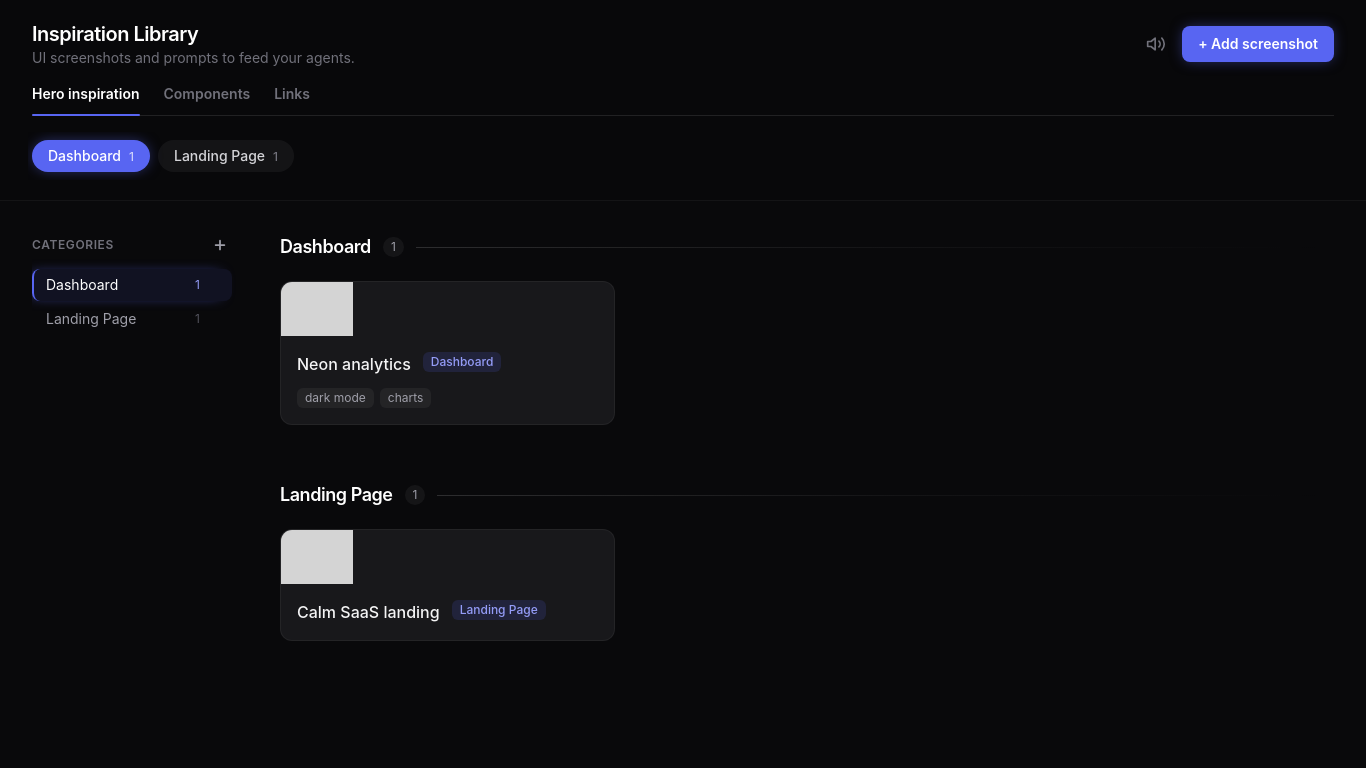
Test: App › switches to the components tab, with its own URL, categories and grid
Check: the button "Neon analytics Dashboard dark mode charts" is shown, box [280,281,615,425]
Step 1. Click the link "Components" → click(207, 94), box [164,85,250,102]
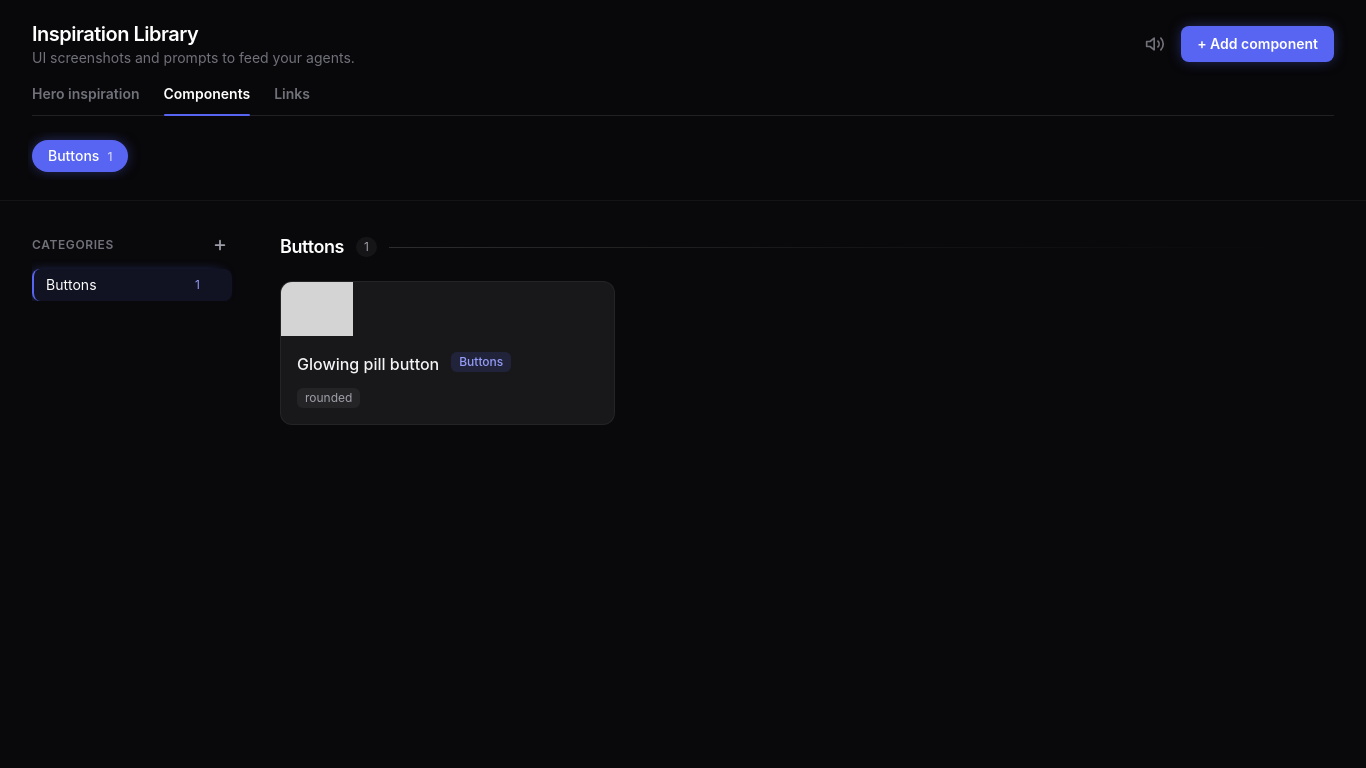
Check: the button "Glowing pill button Buttons rounded" is shown, box [280,281,615,425]
Check: the button "Neon analytics" is gone
Check: the button "Buttons1" is shown, box [32,140,128,172]
